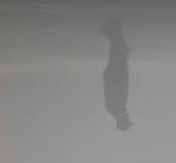person: (103, 29, 136, 132)
